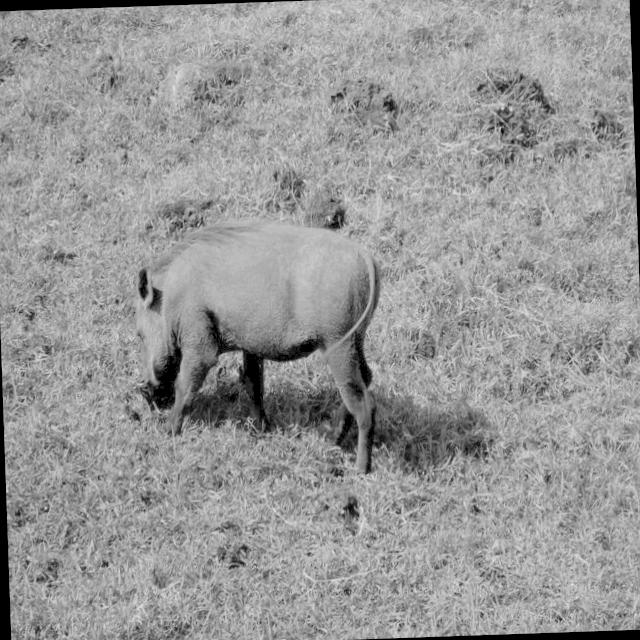pig: (129, 219, 380, 472)
